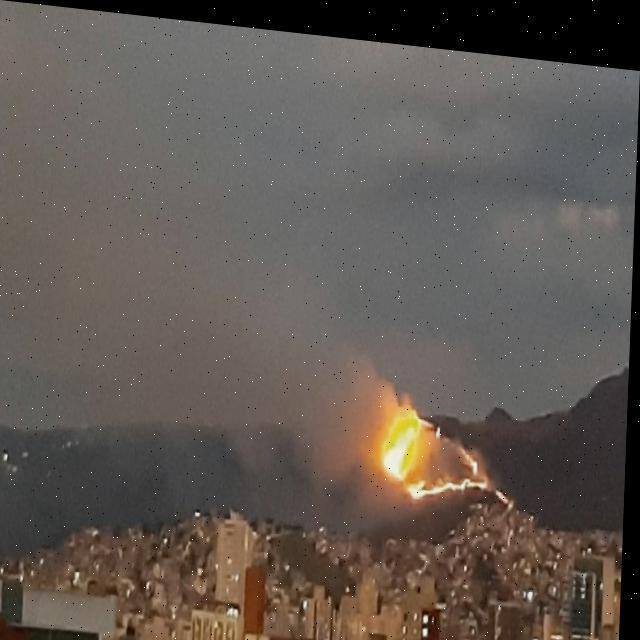Fire: (412, 462, 492, 492), (386, 398, 416, 472), (468, 440, 482, 466)
